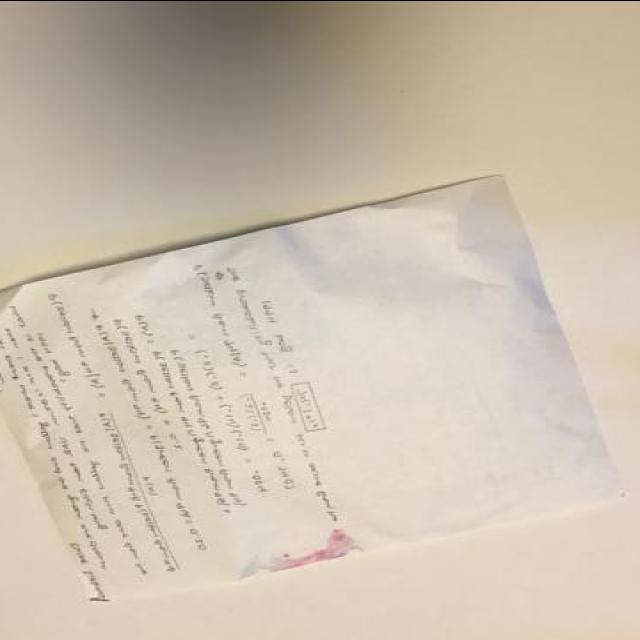kertas: (0, 173, 621, 610)
